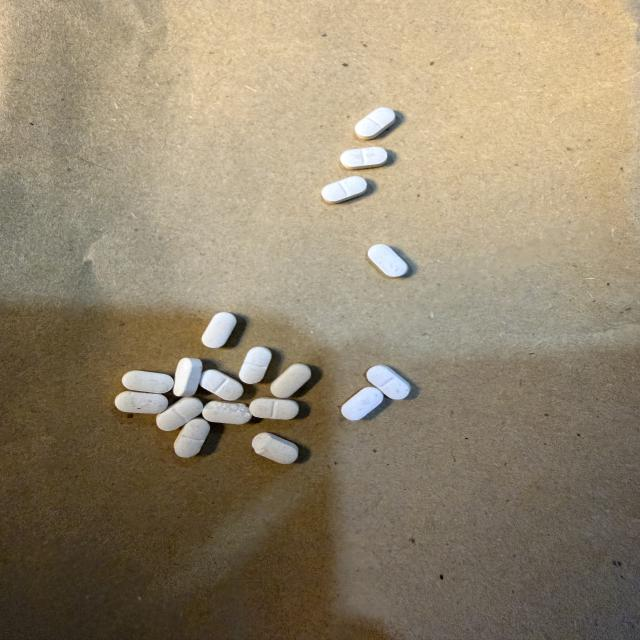pill: (156, 397, 202, 431), (252, 433, 298, 464), (367, 366, 410, 399), (341, 387, 383, 420), (174, 419, 210, 457), (271, 364, 311, 398), (200, 370, 243, 400), (368, 245, 408, 277), (202, 312, 237, 348), (355, 108, 395, 139), (239, 347, 271, 384), (322, 177, 367, 203), (115, 391, 168, 413), (122, 371, 173, 393), (203, 401, 251, 424), (173, 358, 202, 396), (249, 398, 299, 419), (340, 147, 387, 169)
